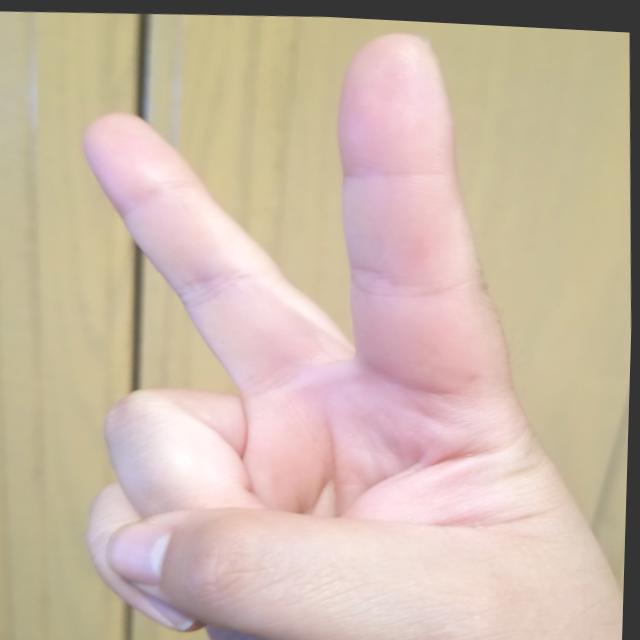V: (55, 2, 639, 640)
